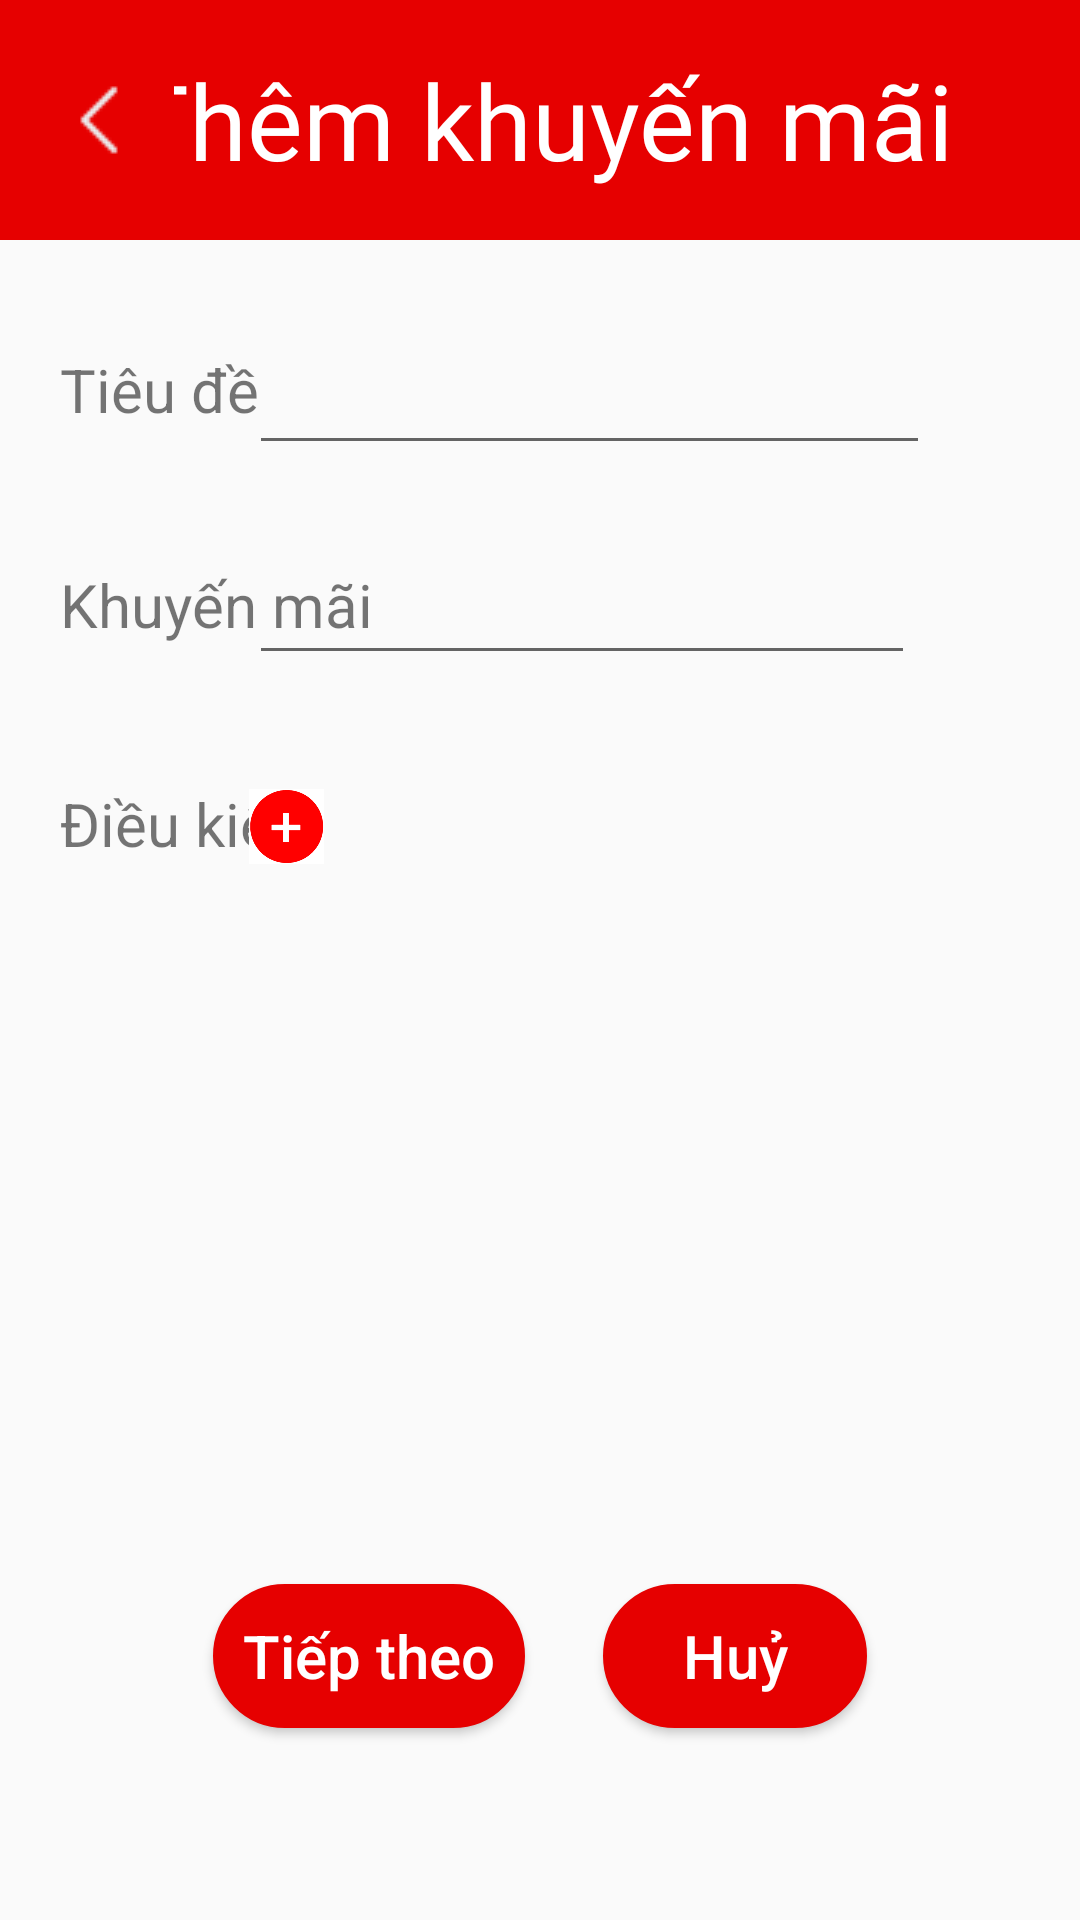

Point at icon controls on the screen. Image size 1080 x 1920, points as (x,y).
add: (286,826)
arr: (99,120)
